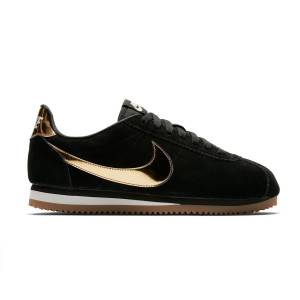nike: (58, 145, 175, 187)
